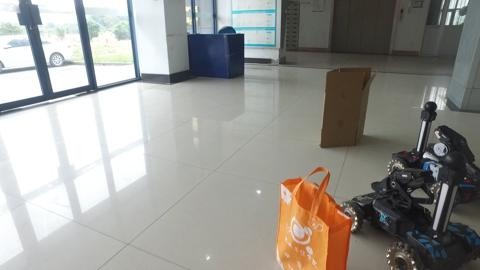bag: (280, 166, 348, 270)
box: (325, 63, 367, 150)
chariot: (344, 145, 477, 269), (382, 93, 475, 187)
